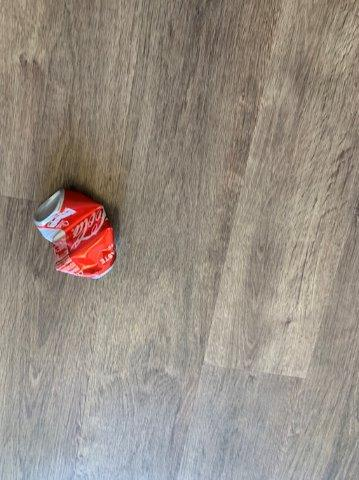kaleng: (35, 190, 116, 276)
